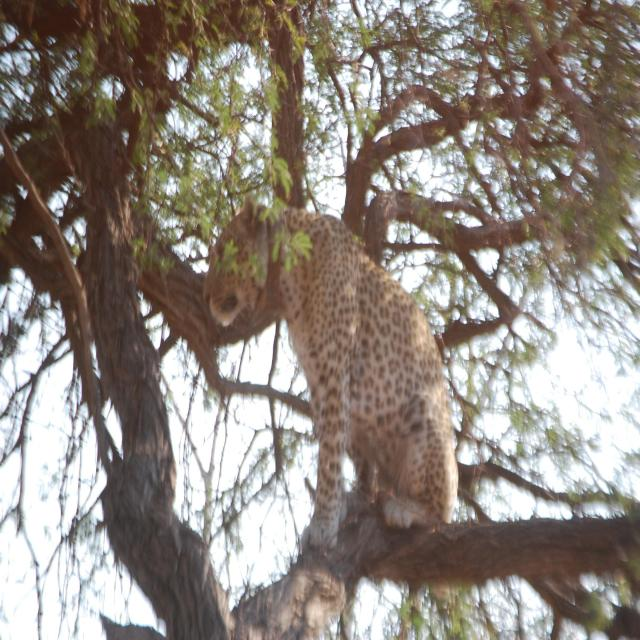Leopard: (201, 186, 471, 555)
